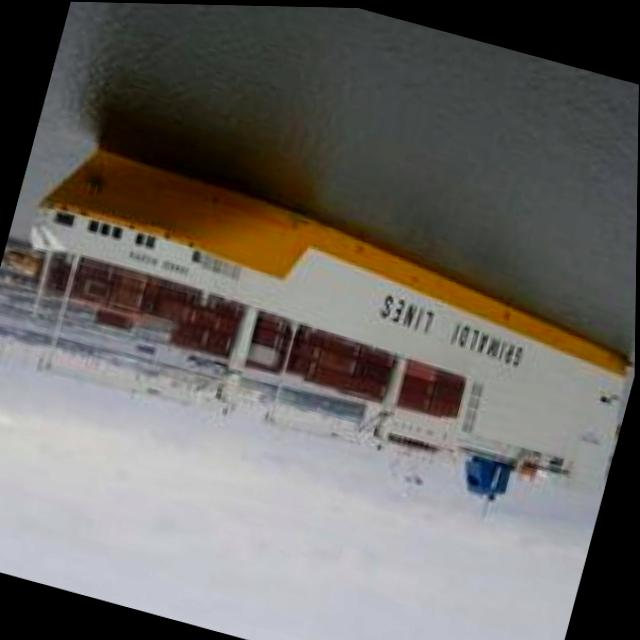ship2: (28, 148, 630, 500)
